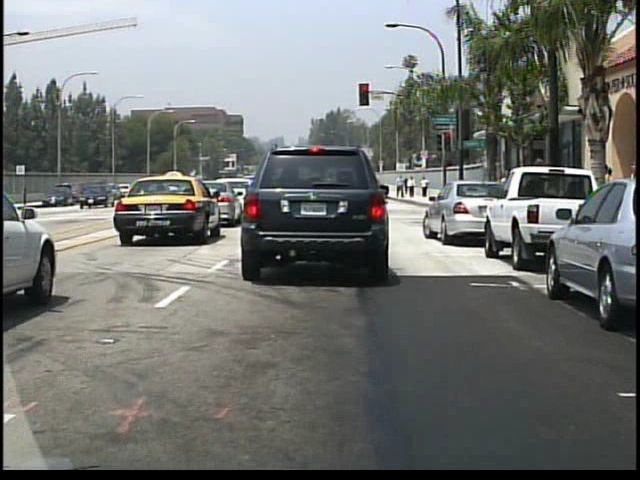person: (592, 163, 620, 235), (420, 177, 430, 200), (398, 175, 406, 199), (409, 176, 417, 200)
